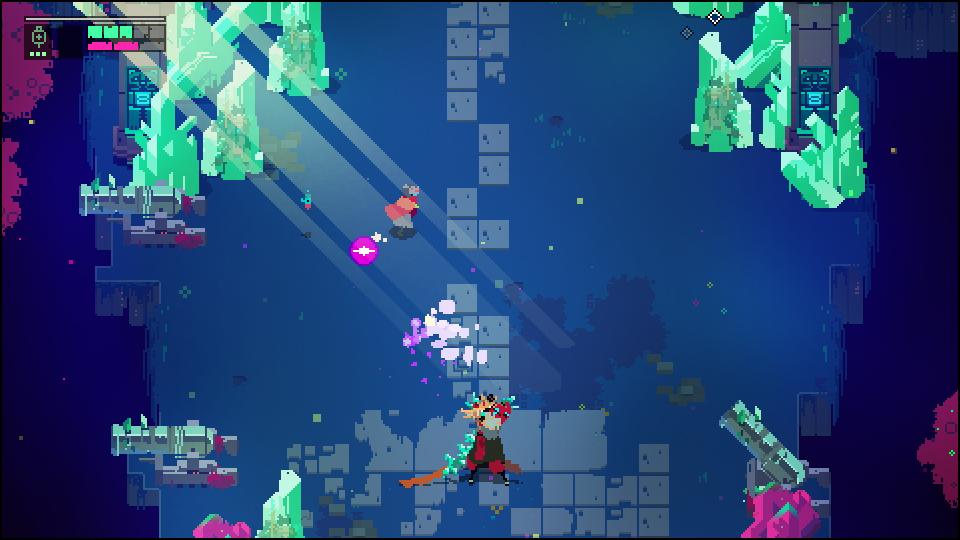hanged_man: (437, 391, 521, 489)
hanged_shot: (346, 235, 381, 271)
player: (382, 180, 427, 235)
